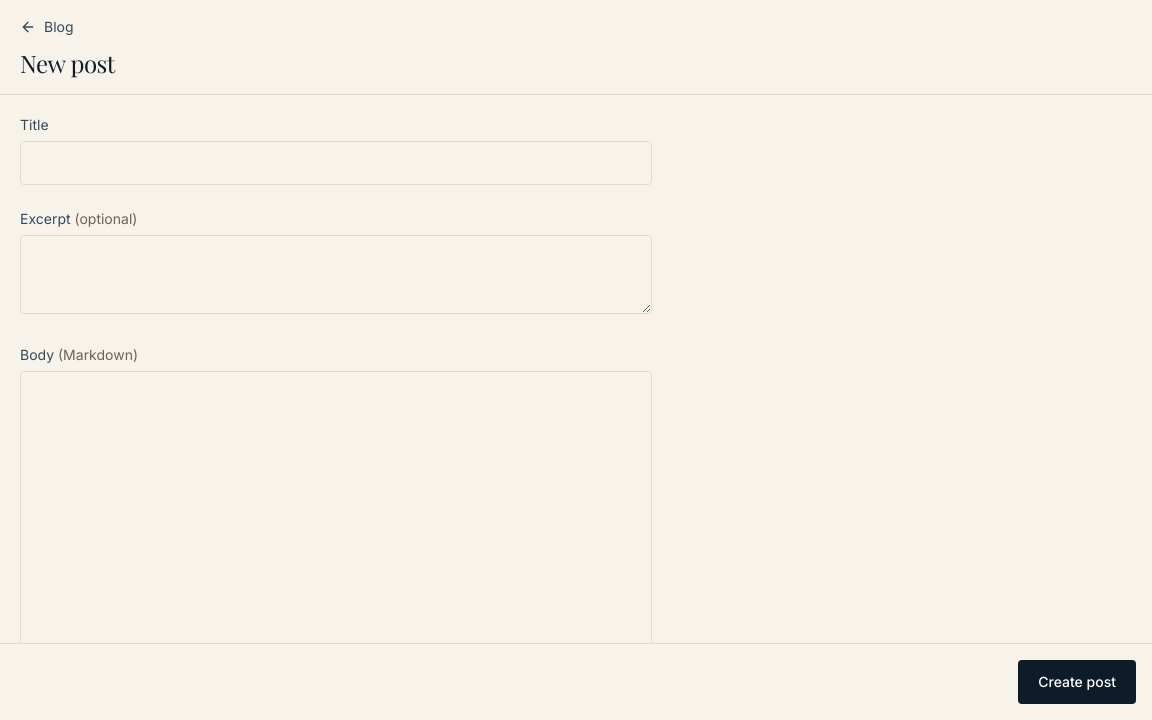
Test: BlogForm › maps the API's field-level details onto the offending inputs
The image size is (1152, 720).
Type "x" into the field labelled "Title" at (336, 163), box [20,141,652,185]
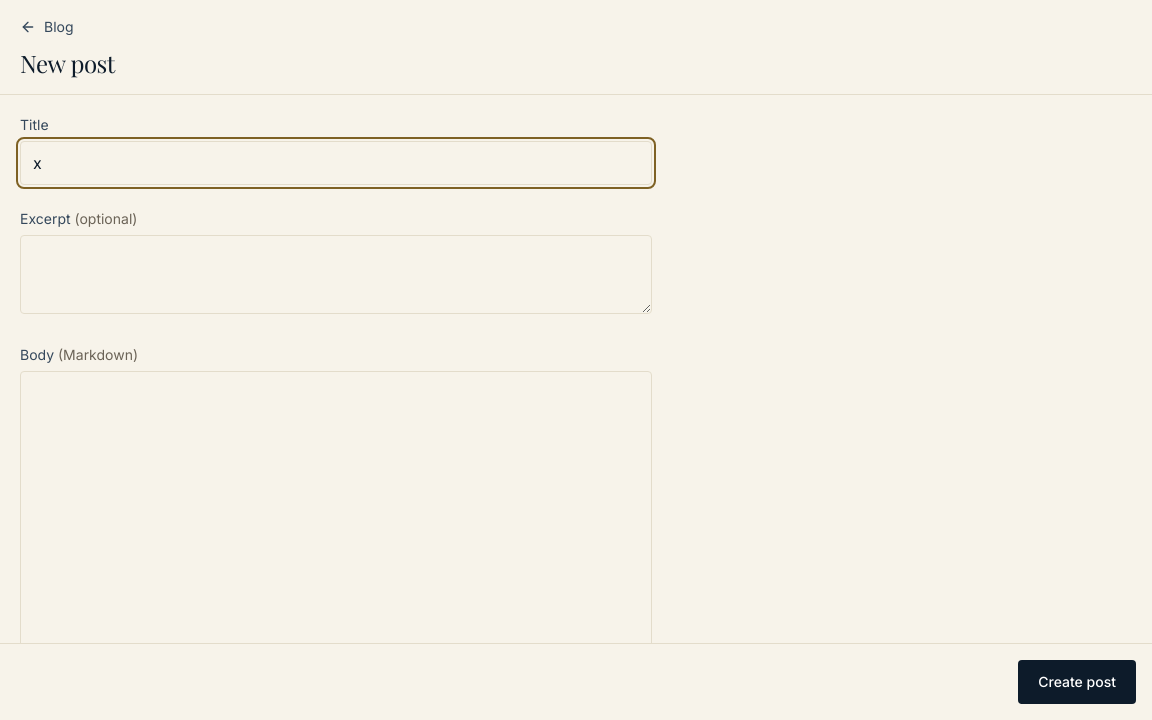
Type "Body text." into the text box labelled "Body (Markdown)" at (336, 544), box [20,371,652,717]
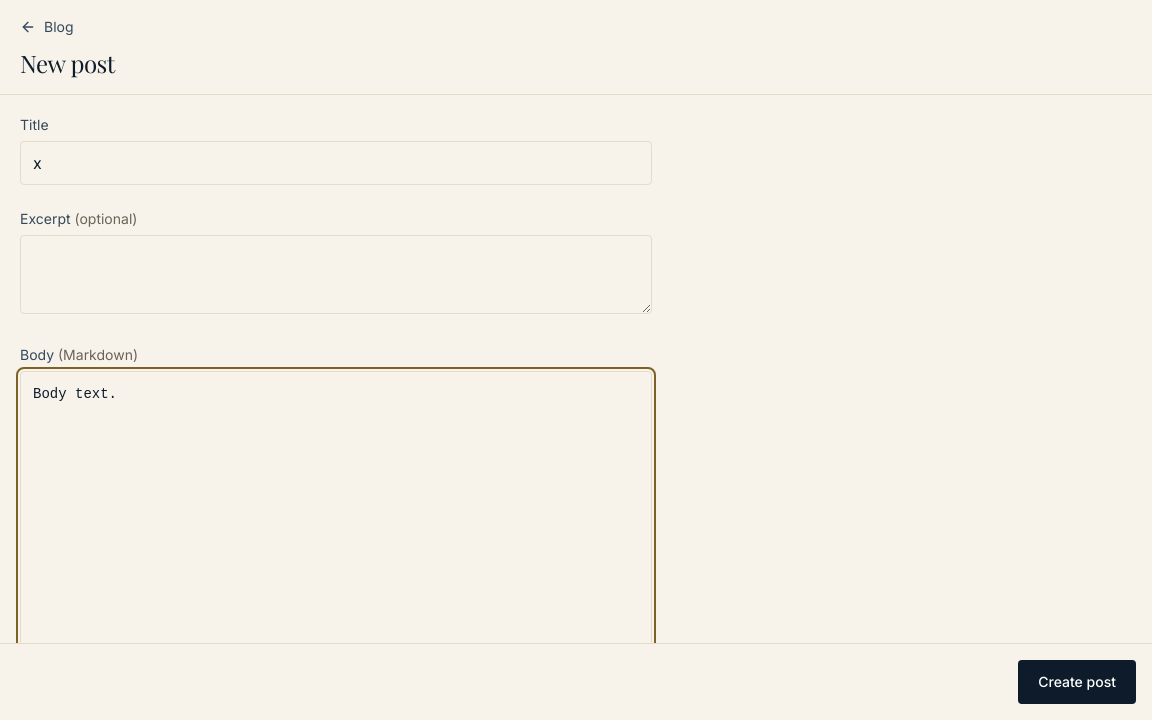
Click the button "Create post" at (1077, 682), box [1018,660,1136,704]
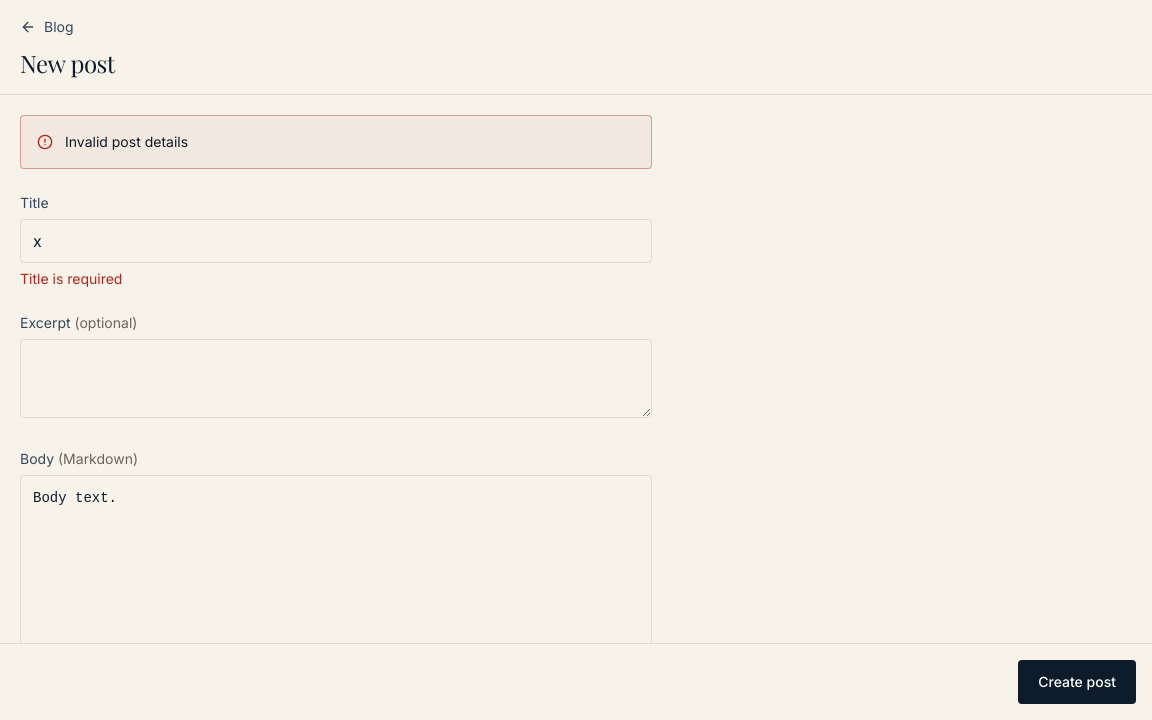
Now the text "Title is required" is shown, box [20,270,122,287]
